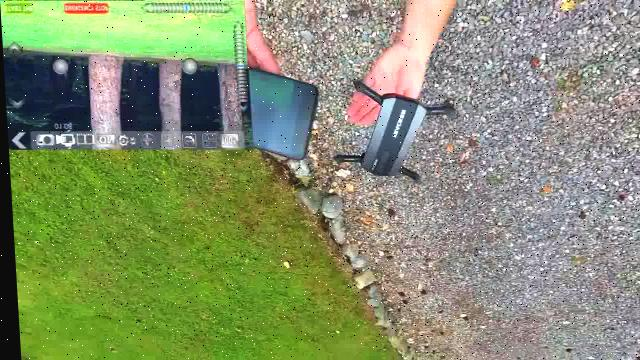drone: (289, 75, 485, 195)
